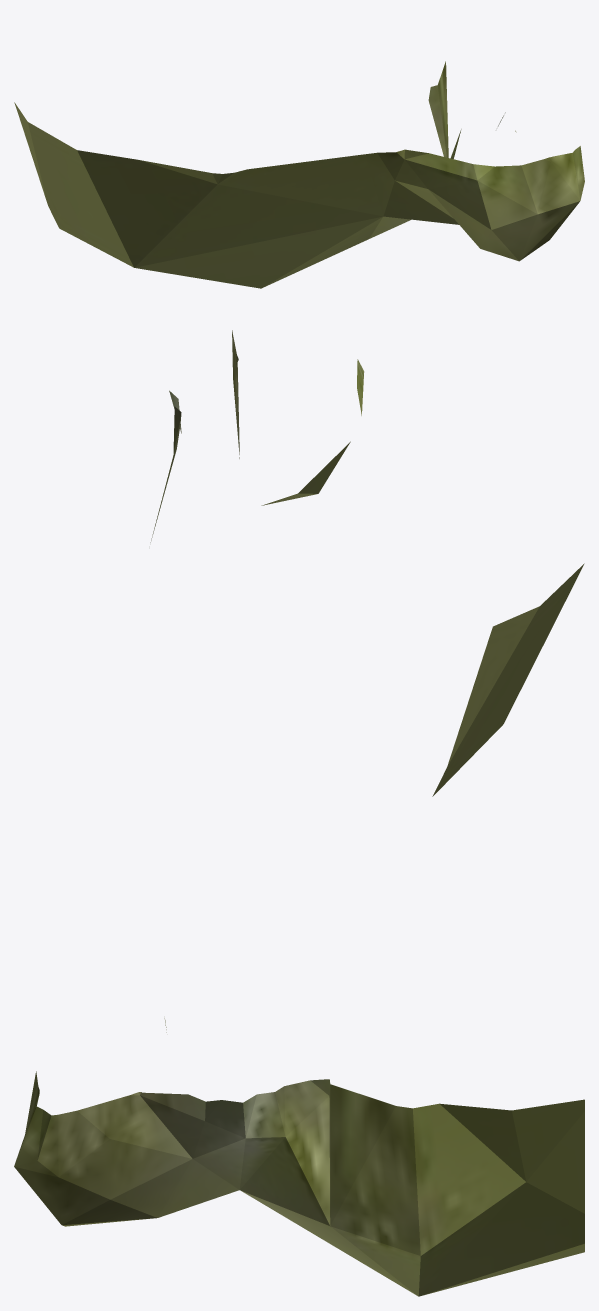
The picture shows the model from 3 angles, top to bottom: view 1: azimuth 30°, elevation 25°; view 2: azimuth 150°, elevation 25°; view 3: azimuth 270°, elevation 25°; orthographic projection. The views are drawn at different scales.
Size of the model in its own units: 1.11 by 0.5189 by 0.9876.
Materials: 1 (1 with a texture image).
